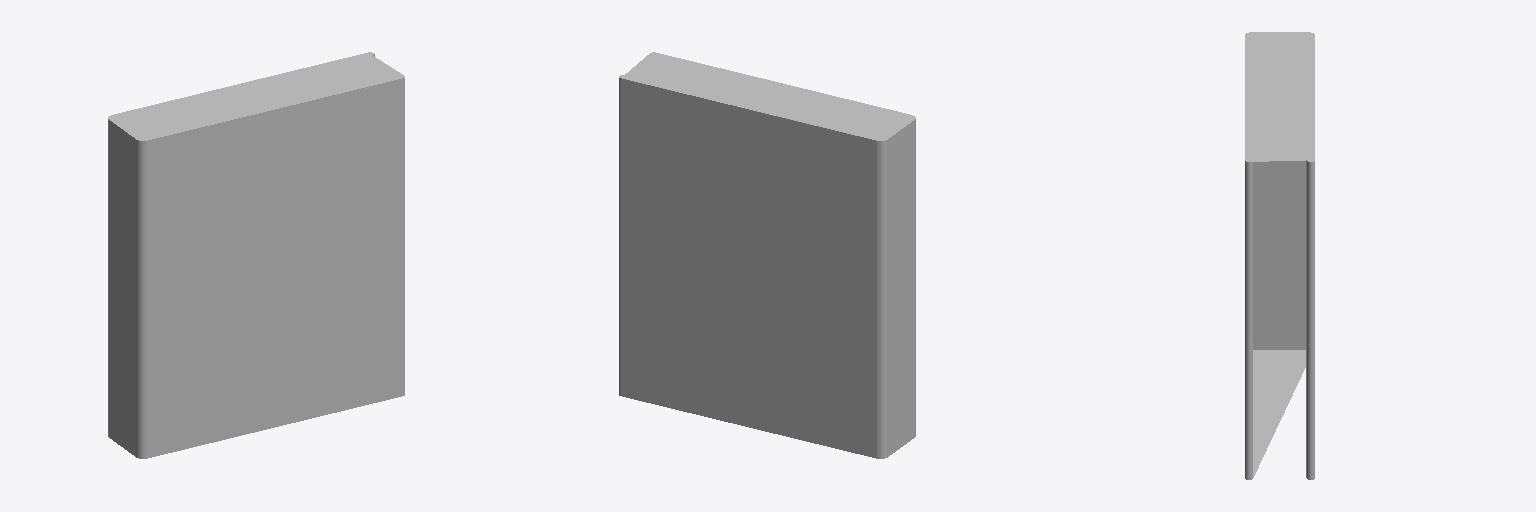
Rendered from books__8.obj.
The picture shows the model from 3 angles: view 1: azimuth 30°, elevation 25°; view 2: azimuth 150°, elevation 25°; view 3: azimuth 270°, elevation 25°; orthographic projection.
Parts seen in each view (by area): view 1: grp8; view 2: grp8; view 3: grp8.
Part boxes in pixels (left/top/right/bottom): grp8: left=108, top=52, right=404, bottom=458; grp8: left=619, top=52, right=915, bottom=458; grp8: left=1245, top=32, right=1314, bottom=479.
Bounding box in the file's own units: 176 × 201 × 40.3.